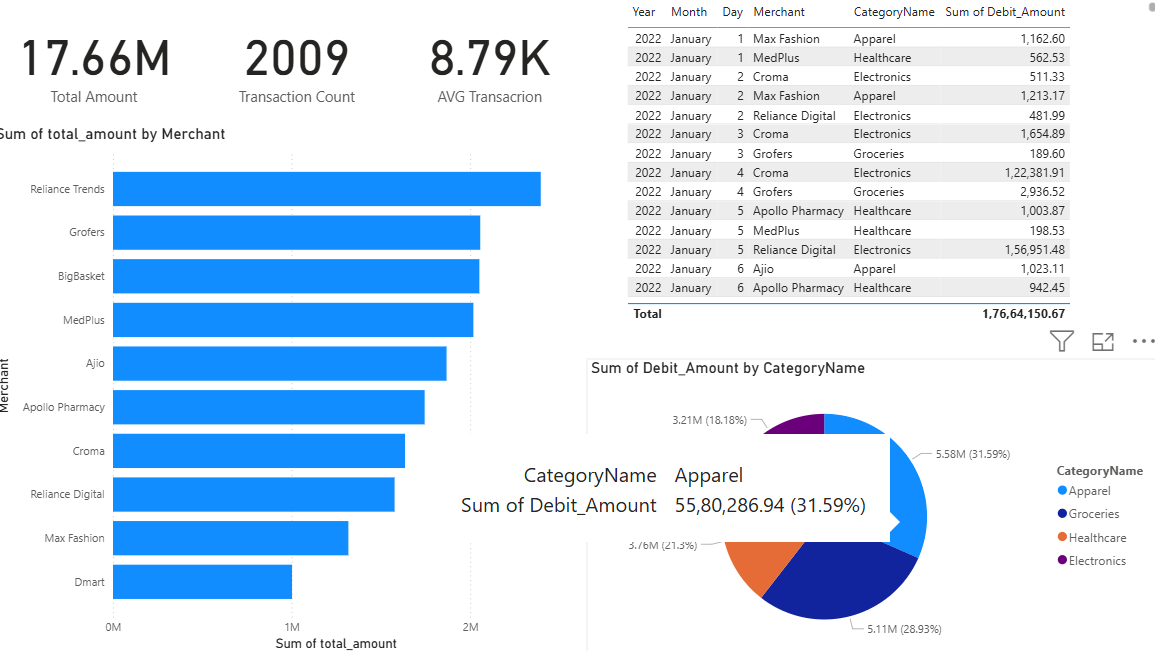

This screenshot's page, from the dashboard's own definition file:
{"tool":"powerbi","page":{"name":"Page 1","canvas":[1280,720],"ordinal":0},"visuals":[{"type":"card","fields":{"Values":["fact_transactions (2).Total Amount"]},"box":[0,0,224.3,140],"z":0},{"type":"card","fields":{"Values":["fact_transactions (2).Transaction Count"]},"box":[224.3,0,218.6,140],"z":1000},{"type":"card","fields":{"Values":["fact_transactions (2).AVG Transacrion"]},"box":[442.9,0,204.3,140],"z":2000},{"type":"barChart","fields":{"Category":["fact_transactions (2).Merchant"],"Y":["Sum(fact_transactions (2).total_amount)"]},"box":[0,140,640,580],"z":3000},{"type":"pieChart","fields":{"Category":["fact_transactions.CategoryName"],"Y":["Sum(fact_transactions.Debit_Amount)"]},"box":[650,394.3,630,325.7],"z":4000},{"type":"tableEx","fields":{"Values":["fact_transactions.Date.Variation.Date Hierarchy.Year","fact_transactions.Date.Variation.Date Hierarchy.Month","fact_transactions.Date.Variation.Date Hierarchy.Day","fact_transactions.Merchant","fact_transactions.CategoryName","Sum(fact_transactions.Debit_Amount)"]},"box":[690.6,0,588.7,360.4],"z":4001}]}

Visuals, with their boxes in screenshot pixels (x1, y1, x2, y2), scaled from the page's 1280x720 canvas onto the 1155x651 screenshot:
card - fact_transactions (2).Total Amount: x1=0 y1=0 x2=202 y2=127
card - fact_transactions (2).Transaction Count: x1=202 y1=0 x2=400 y2=127
card - fact_transactions (2).AVG Transacrion: x1=400 y1=0 x2=584 y2=127
barChart - fact_transactions (2).Merchant x Sum(fact_transactions (2).total_amount): x1=0 y1=127 x2=578 y2=650
pieChart - fact_transactions.CategoryName x Sum(fact_transactions.Debit_Amount): x1=587 y1=357 x2=1154 y2=650
tableEx - fact_transactions.Date.Variation.Date Hierarchy.Year x fact_transactions.Date.Variation.Date Hierarchy.Month: x1=623 y1=0 x2=1154 y2=326
